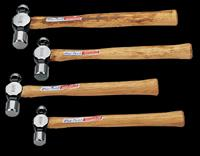hammer: (8, 2, 178, 49), (30, 34, 193, 81), (1, 69, 160, 117), (28, 102, 185, 146)
